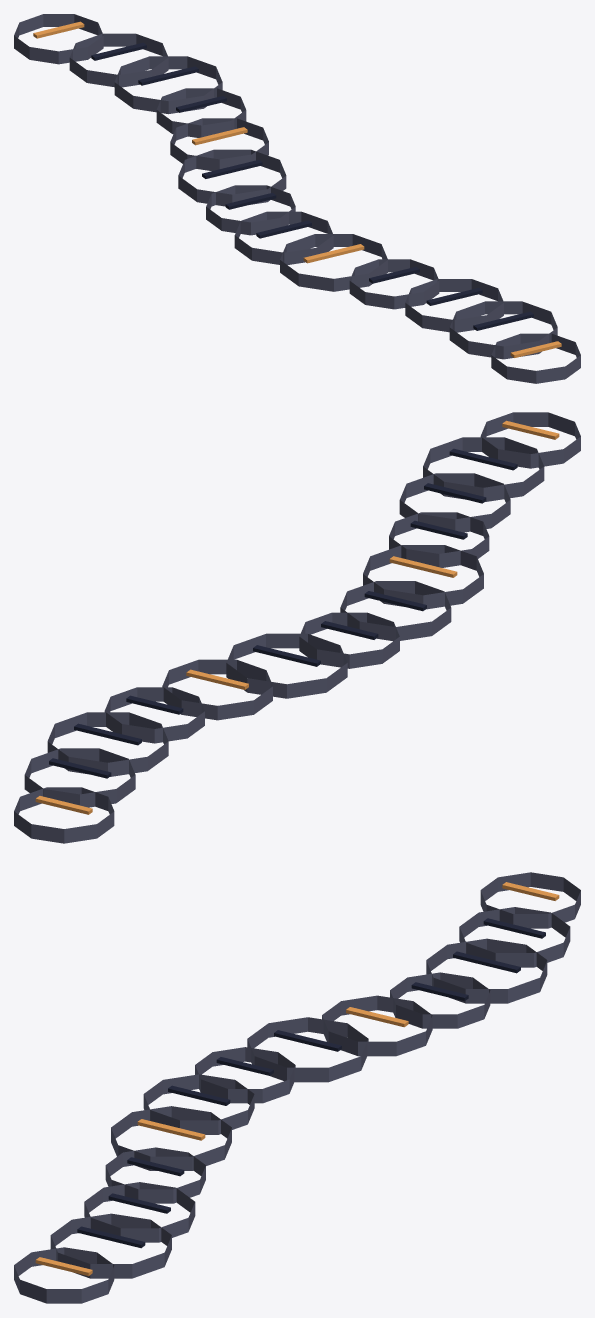
File: moonfall_stepping_stones.obj
3 views of the same model, one above another, from view 1: azimuth 30°, elevation 25°; view 2: azimuth 150°, elevation 25°; view 3: azimuth 330°, elevation 25° (orthographic). The views are drawn at different scales.
Visible parts, largest first — view 1: moonfall_stepping_stones; view 2: moonfall_stepping_stones; view 3: moonfall_stepping_stones.
Boxes of the visible parts, x1=… form: moonfall_stepping_stones: x1=14, y1=14, x2=580, y2=383; moonfall_stepping_stones: x1=14, y1=412, x2=580, y2=843; moonfall_stepping_stones: x1=14, y1=872, x2=580, y2=1303.
Size of the model in its own units: 3.33 by 0.33 by 17.82.
